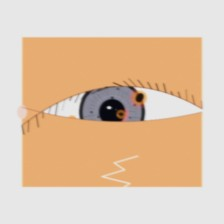foreign_body_visible: (110, 105, 132, 123)
